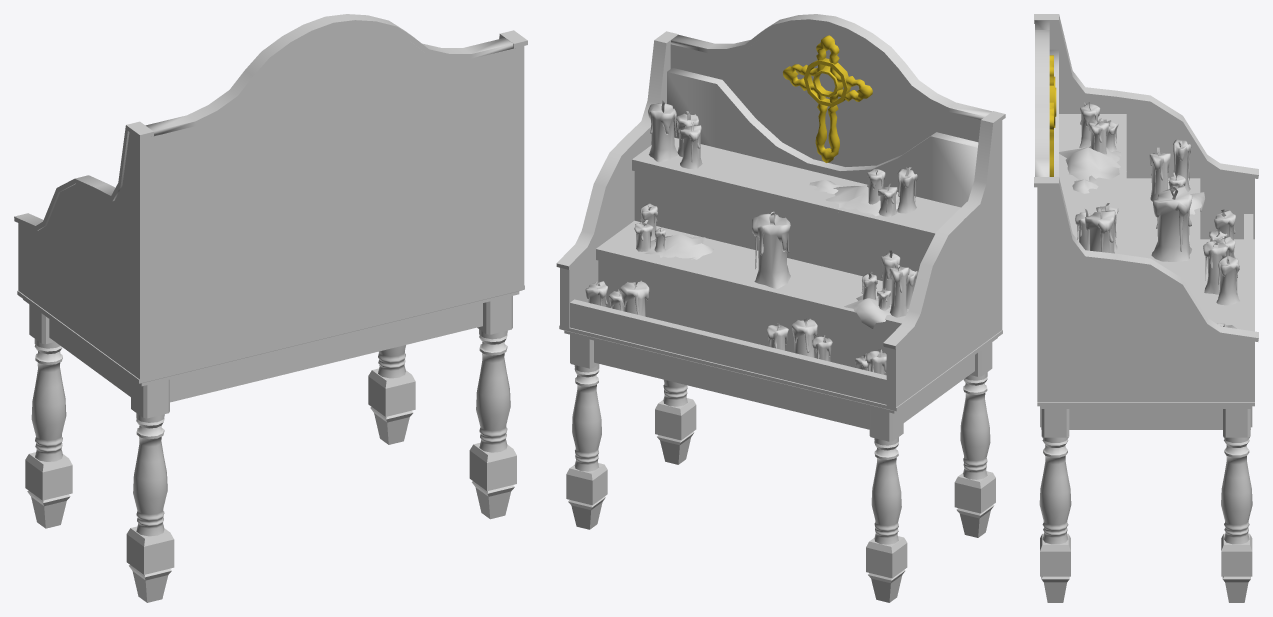
File: Candle Desk 2 Cleanup.fbx
The picture shows the model from 3 angles, left to right: view 1: azimuth 30°, elevation 25°; view 2: azimuth 150°, elevation 25°; view 3: azimuth 270°, elevation 25°; orthographic projection. The views are drawn at different scales.
Parts seen in each view (by area): view 1: Cylinder.014; view 2: Cylinder.014; view 3: Cylinder.014.
Boxes of the visible parts, x1=… form: Cylinder.014: x1=14, y1=14, x2=527, y2=602; Cylinder.014: x1=556, y1=14, x2=1005, y2=602; Cylinder.014: x1=1034, y1=14, x2=1258, y2=602.
Size of the model in its own units: 1174 by 1566 by 659.
